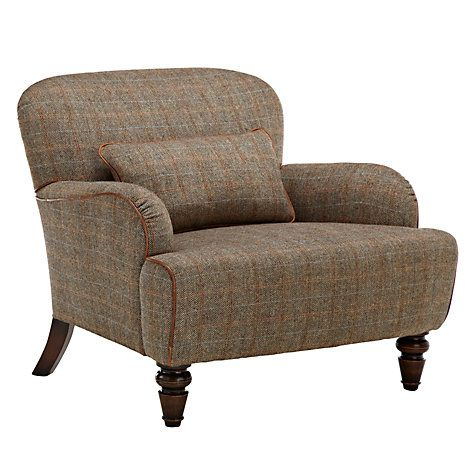chairs: (14, 62, 460, 429)
